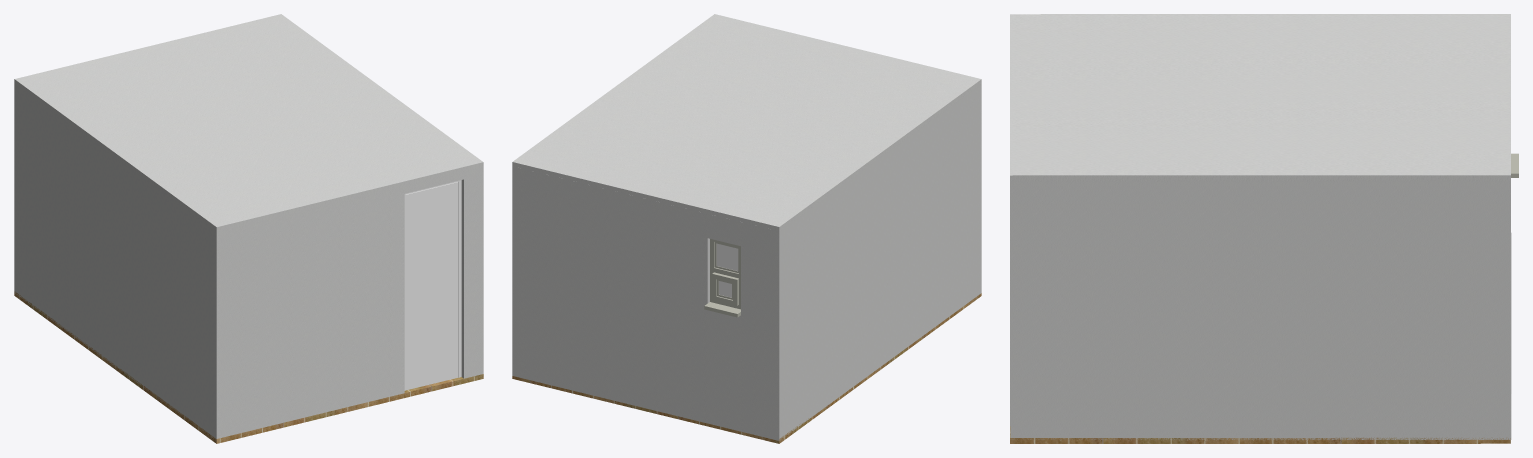
Rendered from FloorPlan418_physics.fbx.
The picture shows the model from 3 angles, left to right: view 1: azimuth 30°, elevation 25°; view 2: azimuth 150°, elevation 25°; view 3: azimuth 270°, elevation 25°; orthographic projection. The views are drawn at different scales.
Parts seen in each view (by area): view 1: FP418:Walls, FP418:Ceiling, FP418:Door.014, FP418:Floor, FP418:DoorFrame.014; view 2: FP418:Walls, FP418:Ceiling, FP418:Floor, FP418:polySurface94, FP418:polySurface90; view 3: FP418:Walls, FP418:Ceiling, FP418:Floor.
Boxes of the visible parts, x1=… form: FP418:Walls: x1=14, y1=84, x2=483, y2=438; FP418:Ceiling: x1=14, y1=14, x2=483, y2=231; FP418:Door.014: x1=405, y1=182, x2=457, y2=390; FP418:Floor: x1=14, y1=291, x2=483, y2=443; FP418:DoorFrame.014: x1=404, y1=180, x2=461, y2=390; FP418:Walls: x1=512, y1=84, x2=981, y2=440; FP418:Ceiling: x1=512, y1=14, x2=981, y2=231; FP418:Floor: x1=512, y1=293, x2=981, y2=443; FP418:polySurface94: x1=704, y1=239, x2=740, y2=317; FP418:polySurface90: x1=716, y1=243, x2=738, y2=297; FP418:Walls: x1=1010, y1=180, x2=1511, y2=440; FP418:Ceiling: x1=1010, y1=14, x2=1510, y2=181; FP418:Floor: x1=1010, y1=426, x2=1510, y2=443.
Bounding box in the file's own units: 320 × 249 × 427.
